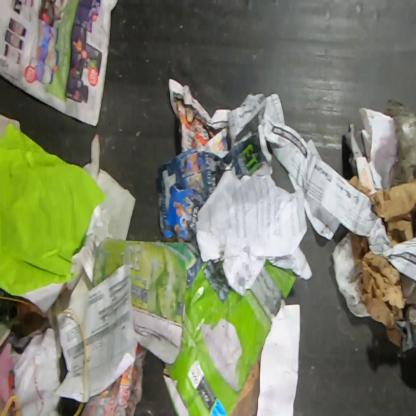cardboard: (162, 258, 298, 416), (92, 237, 204, 365)
soft_plastic: (14, 327, 62, 416), (383, 97, 415, 188)
